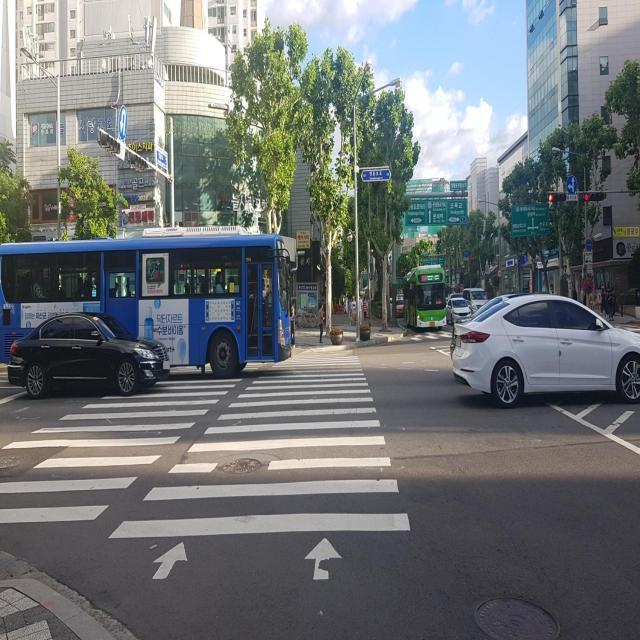횡단보도: (0, 346, 411, 582)
